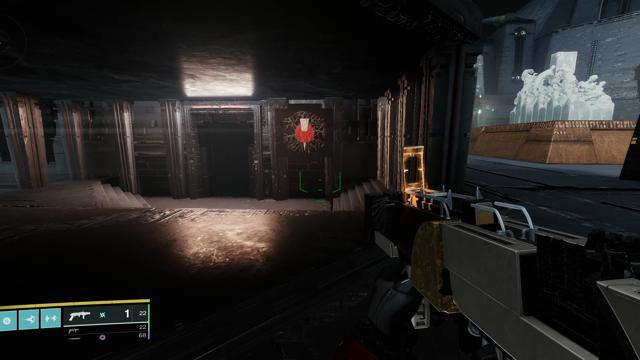kill: (282, 111, 326, 155)
